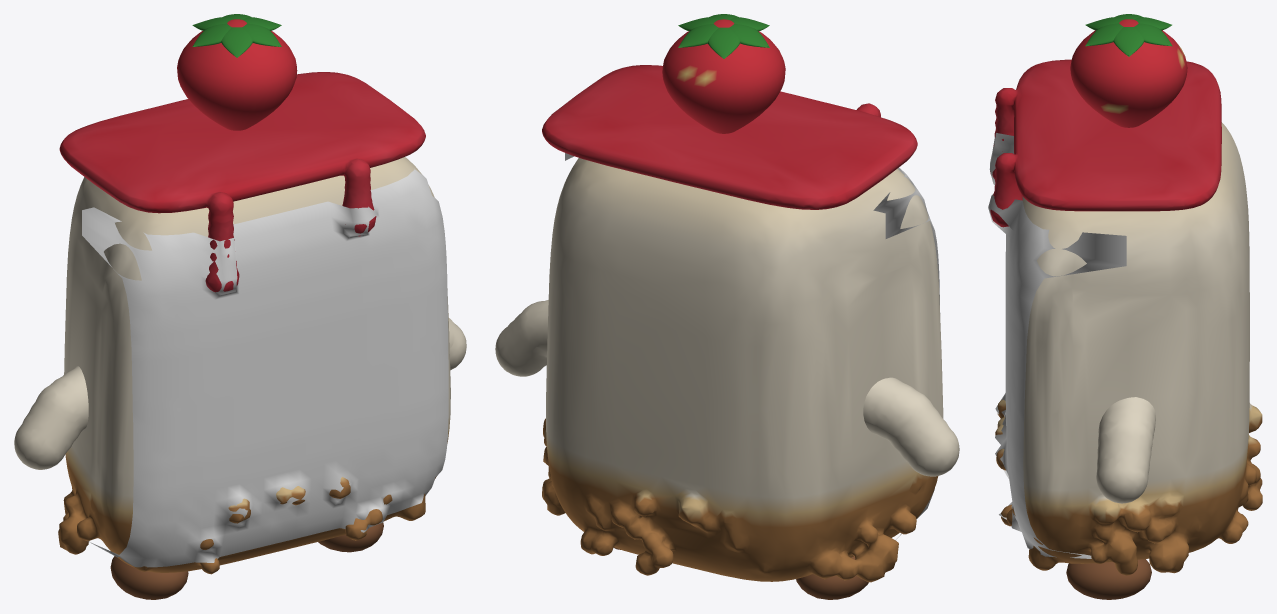
Rendered from folk2_cece.glb.
3 renders of one model, left to right at view 1: azimuth 30°, elevation 25°; view 2: azimuth 150°, elevation 25°; view 3: azimuth 270°, elevation 25°, orthographic. The views are drawn at different scales.
Visible parts, largest first — view 1: cece_face, cece_body, cece_arm_l, cece_foot_l, cece_foot_r, cece_arm_r; view 2: cece_body, cece_arm_l, cece_arm_r, cece_face, cece_foot_l; view 3: cece_body, cece_face, cece_arm_r, cece_foot_r.
Part boxes in pixels (x1=…): cece_face: x1=82, y1=168, x2=448, y2=567; cece_body: x1=58, y1=14, x2=450, y2=574; cece_arm_l: x1=14, y1=366, x2=88, y2=469; cece_foot_l: x1=110, y1=556, x2=188, y2=599; cece_foot_r: x1=318, y1=522, x2=383, y2=552; cece_arm_r: x1=448, y1=318, x2=466, y2=370; cece_body: x1=542, y1=14, x2=943, y2=582; cece_arm_l: x1=863, y1=377, x2=959, y2=476; cece_arm_r: x1=495, y1=300, x2=548, y2=376; cece_face: x1=565, y1=153, x2=940, y2=539; cece_foot_l: x1=796, y1=556, x2=868, y2=599; cece_body: x1=990, y1=14, x2=1262, y2=575; cece_face: x1=988, y1=128, x2=1126, y2=558; cece_arm_r: x1=1096, y1=397, x2=1155, y2=503; cece_foot_r: x1=1066, y1=559, x2=1151, y2=599.
Size of the model in its own units: 0.9907 by 1.15 by 0.5427.
